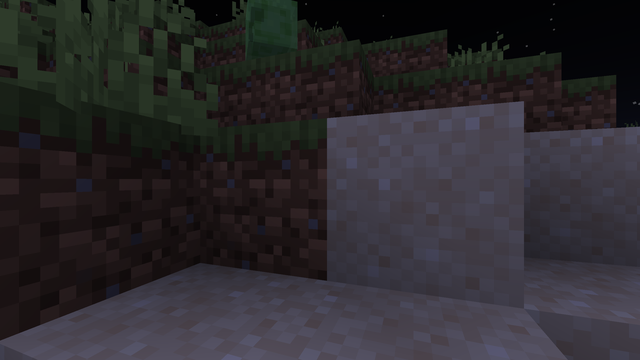slimes: (235, 0, 300, 59)
